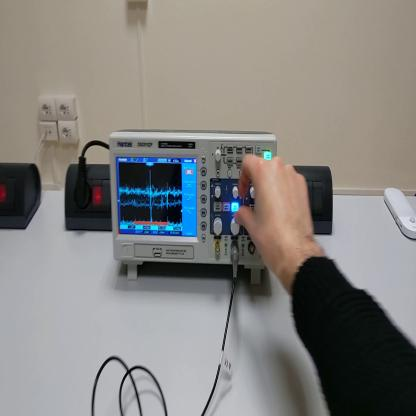hand: (234, 151, 318, 284)
oscilloscope: (108, 130, 277, 288)
socket: (63, 162, 112, 233), (1, 161, 42, 231)
